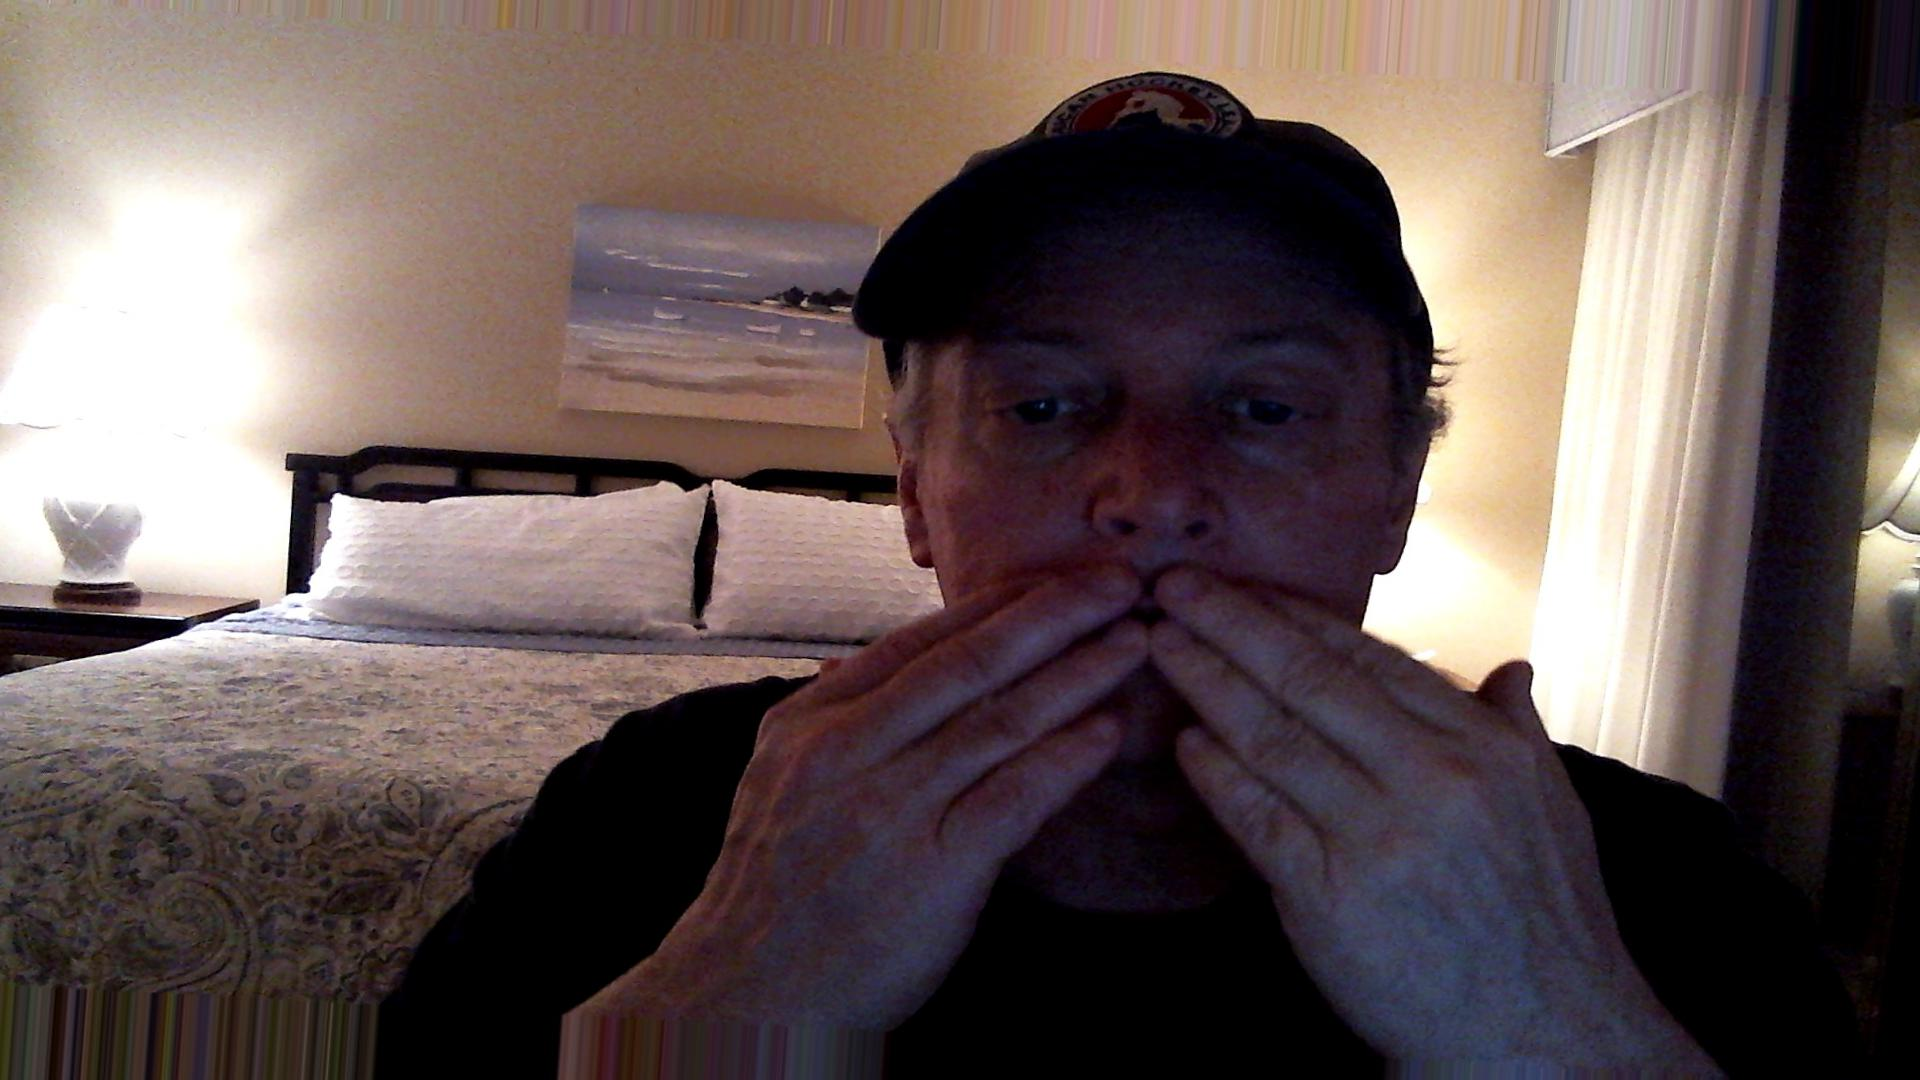Thank You: (687, 534, 1627, 980)
